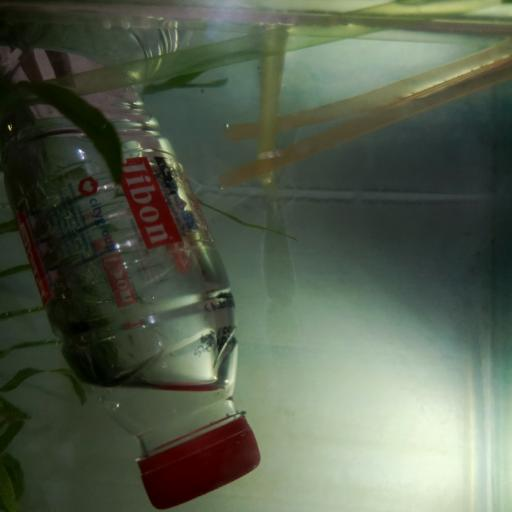bottle_cap: (134, 426, 261, 504)
plastic_bottle: (3, 32, 266, 512)
plastic_straw: (0, 0, 512, 110), (222, 58, 512, 188), (220, 41, 512, 146), (0, 0, 512, 40)
